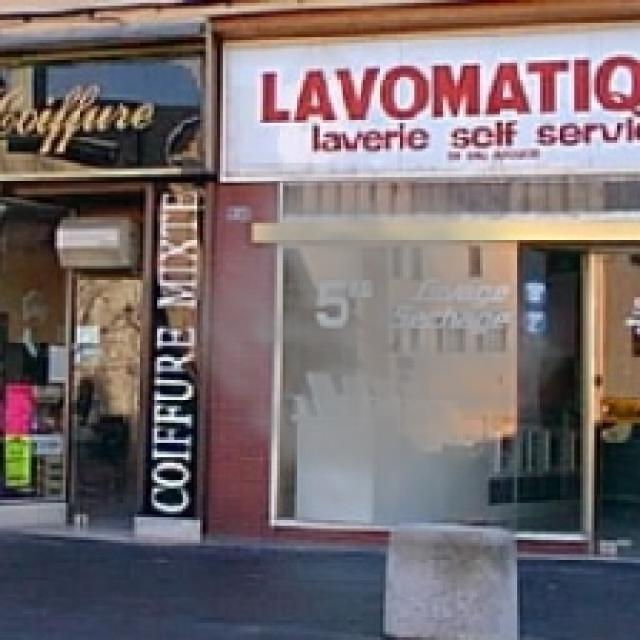smoke: (160, 163, 586, 557)
